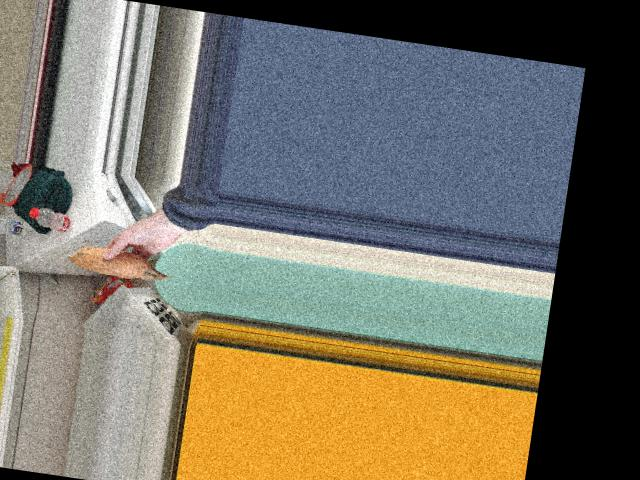sweet_potato: (79, 237, 169, 283)
